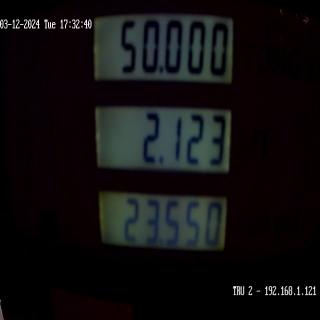screen: (90, 2, 240, 286)
